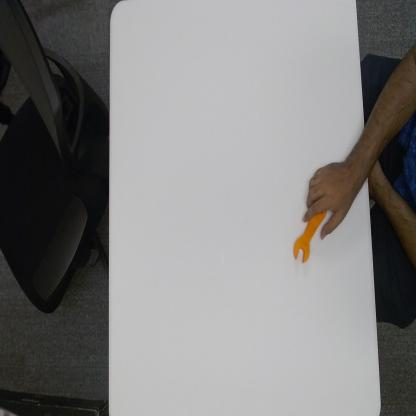Hand: (302, 156, 364, 239)
Screwdriver: (292, 211, 325, 263)
